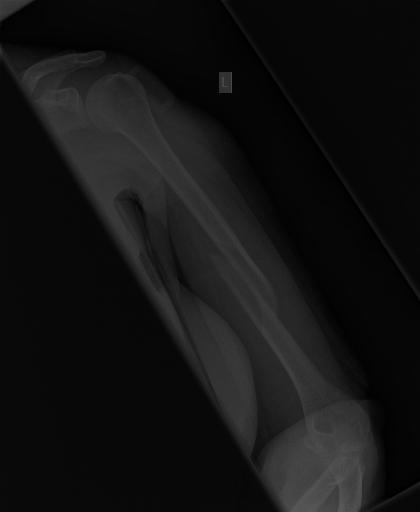fracture: (201, 220, 282, 342)
